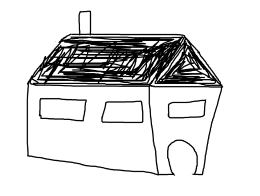chimney: (74, 7, 98, 40)
door: (162, 134, 201, 181)
open_window: (38, 97, 87, 121), (100, 99, 143, 123), (166, 98, 208, 122)
shaded_roof: (21, 31, 225, 92)
wall: (21, 78, 159, 179)
